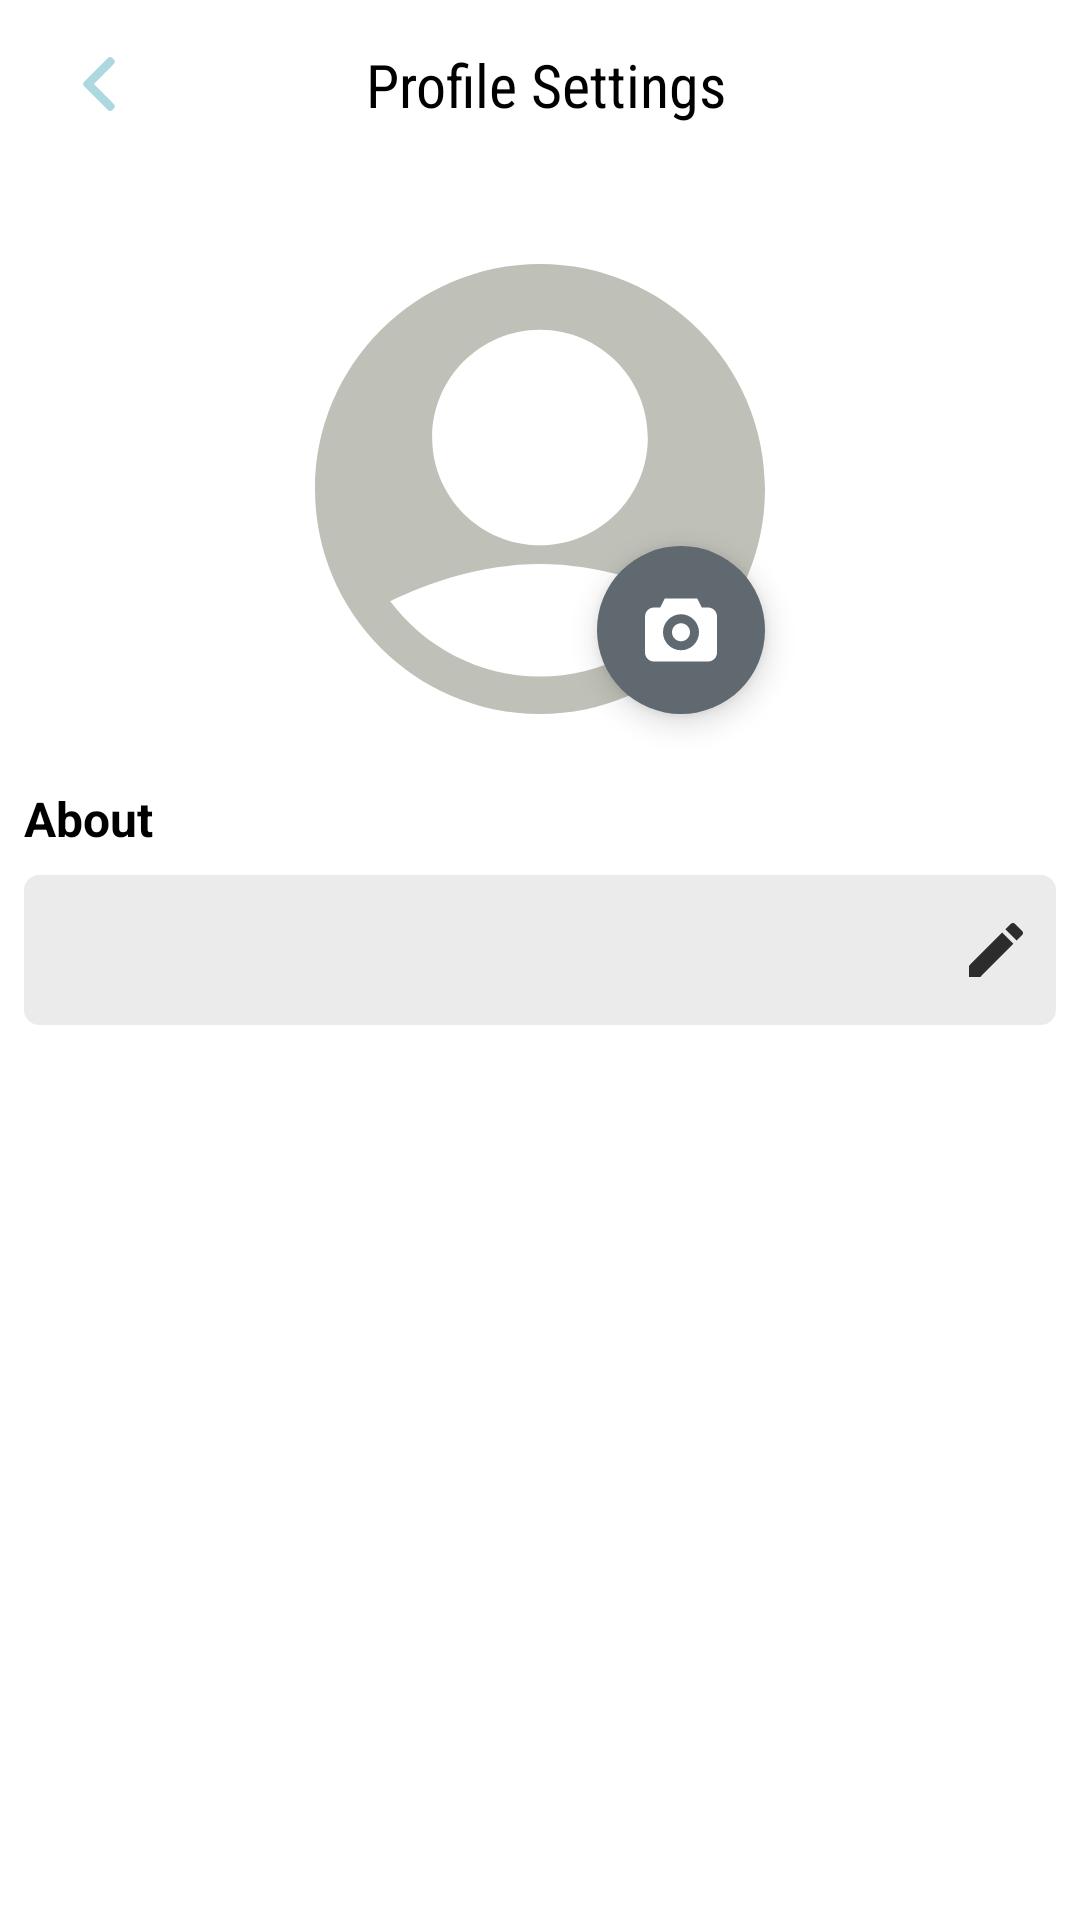

Icons on this 1080*1920 Android screen, each with its box as bbox=[x1, y1, x2, y2]:
back press: bbox=[83, 57, 115, 111]
edit: bbox=[969, 923, 1023, 977]
